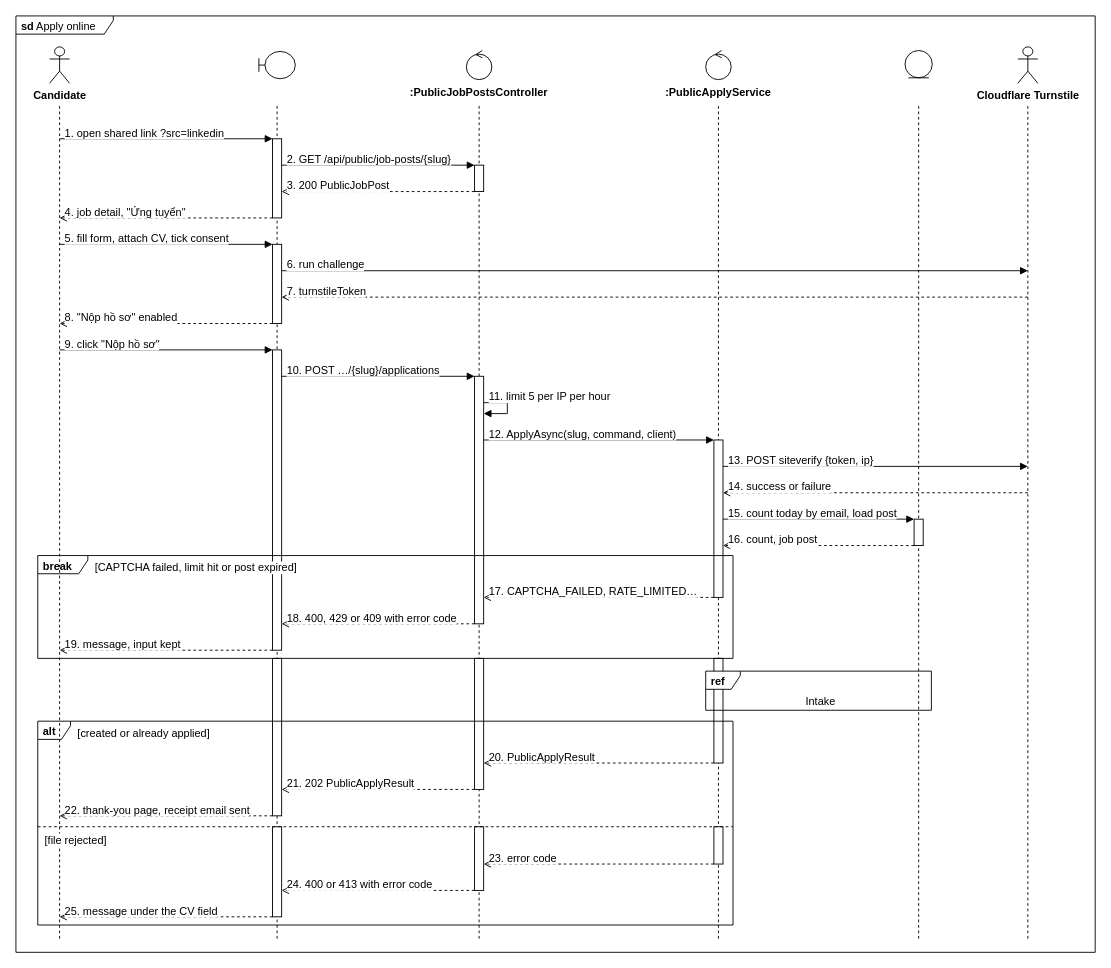
The diagram is 1111 pixels wide and 968 high, and some of its shapes have lost their labels. Each missing label, with the centre of its shape:
":Career site" goes at pixel 276 65.
":Database" goes at pixel 918 64.
